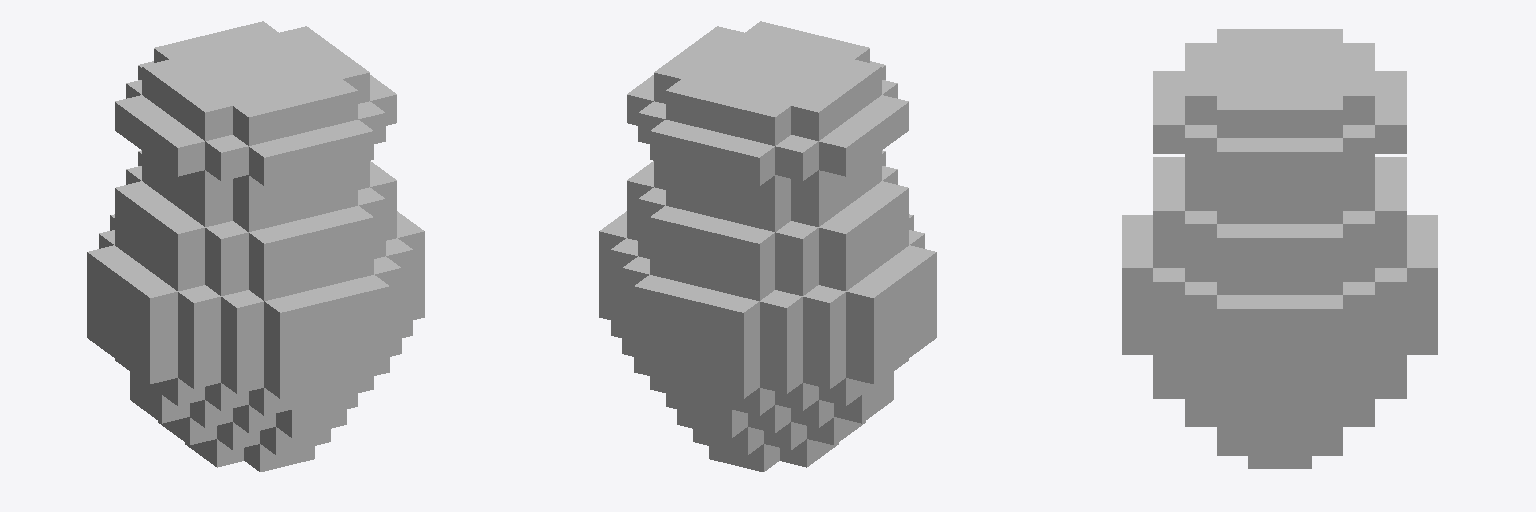
The model's file is cooking_glass_bottle_cork.obj.
3 renders of one model, left to right at view 1: azimuth 30°, elevation 25°; view 2: azimuth 150°, elevation 25°; view 3: azimuth 270°, elevation 25°, orthographic.
Visible parts, largest first — view 1: node_0_0_0.005, node_0_0_0.007; view 2: node_0_0_0.005, node_0_0_0.007; view 3: node_0_0_0.005, node_0_0_0.007.
Part boxes in pixels (x1,y1,x2,y2): node_0_0_0.005: (87, 61, 424, 471); node_0_0_0.007: (142, 21, 369, 145); node_0_0_0.005: (599, 61, 936, 471); node_0_0_0.007: (654, 21, 881, 145); node_0_0_0.005: (1122, 71, 1437, 468); node_0_0_0.007: (1185, 29, 1374, 137).
Bounding box in the file's own units: 0.625 × 0.8125 × 0.625.